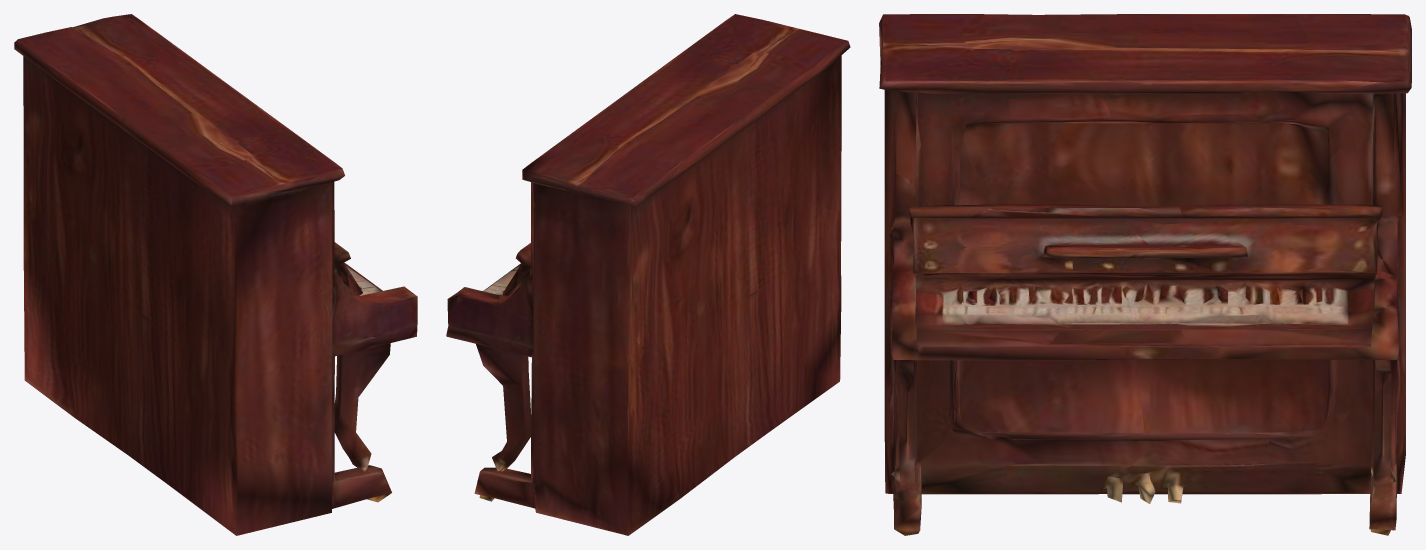
The model's file is 竖式钢琴.glb.
3 renders of one model, left to right at view 1: azimuth 30°, elevation 25°; view 2: azimuth 150°, elevation 25°; view 3: azimuth 270°, elevation 25°, orthographic. The views are drawn at different scales.
Parts seen in each view (by area): view 1: tripo_node_3eac19b2-0584-455b-b97b-9f8fa5f00dc2; view 2: tripo_node_3eac19b2-0584-455b-b97b-9f8fa5f00dc2; view 3: tripo_node_3eac19b2-0584-455b-b97b-9f8fa5f00dc2.
Part boxes in pixels (x1,y1,x2,y2): tripo_node_3eac19b2-0584-455b-b97b-9f8fa5f00dc2: (14, 14, 417, 535); tripo_node_3eac19b2-0584-455b-b97b-9f8fa5f00dc2: (446, 14, 850, 535); tripo_node_3eac19b2-0584-455b-b97b-9f8fa5f00dc2: (879, 14, 1411, 535).
Bounding box in the file's own units: 0.5198 × 0.8835 × 0.9991.
Materials: 1 (1 with a texture image).
